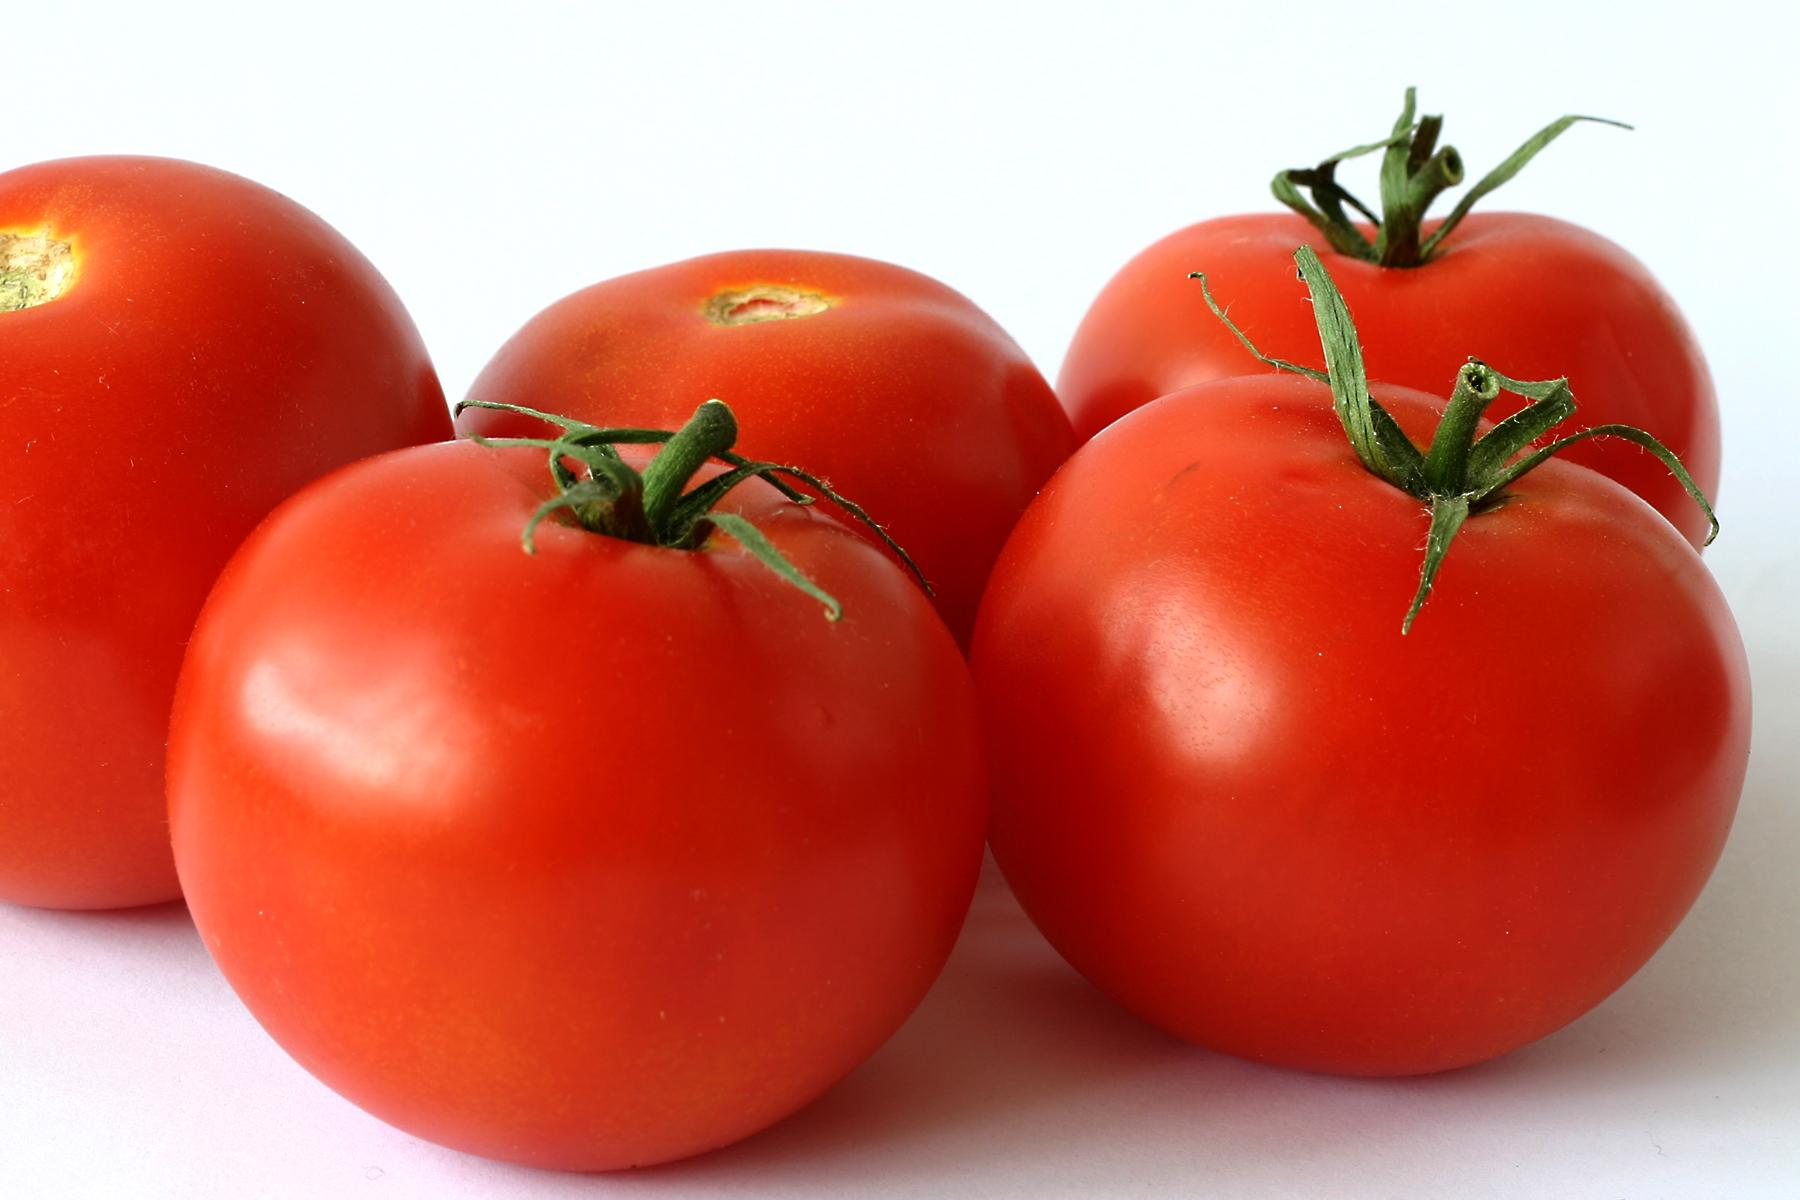tomato: (967, 230, 1753, 1079), (162, 394, 990, 1175), (0, 151, 455, 913), (1053, 86, 1722, 554), (451, 246, 1079, 652)
